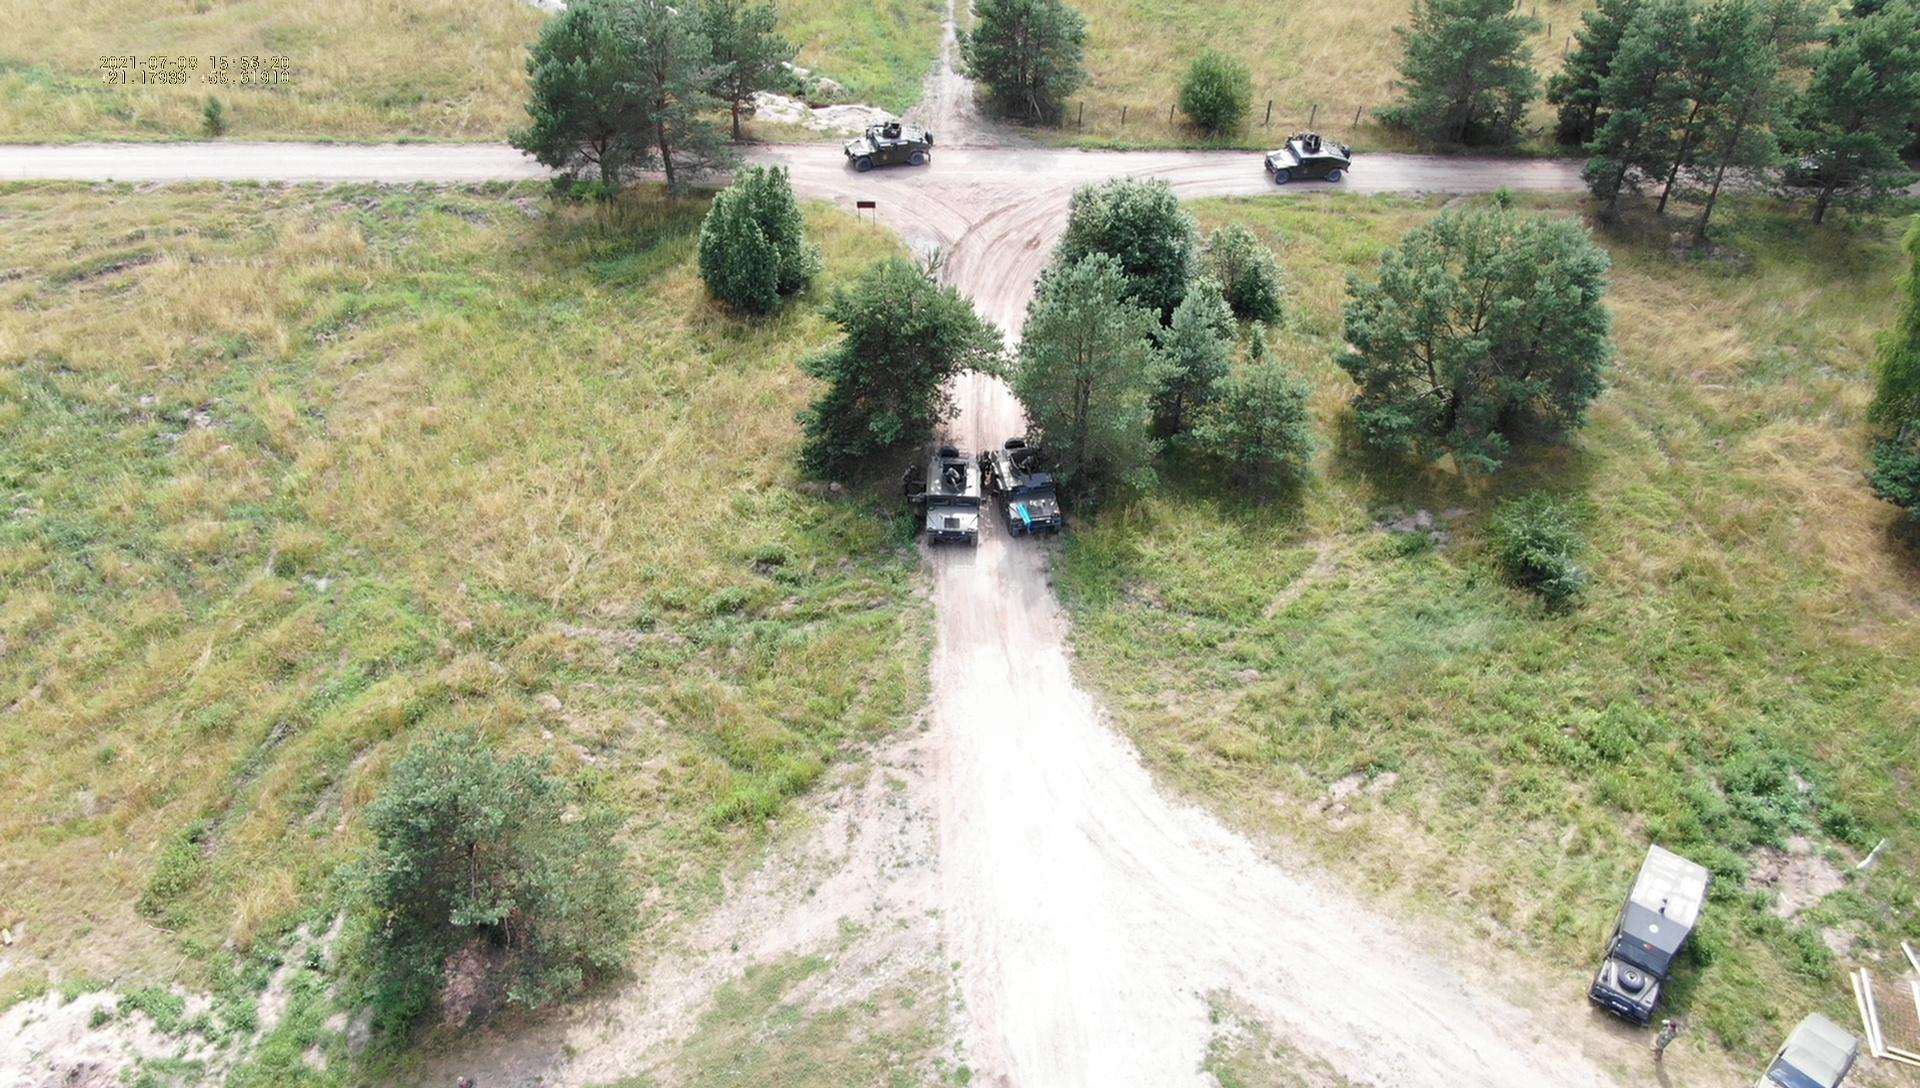Soldier: (1017, 454, 1046, 483), (942, 466, 968, 493)
